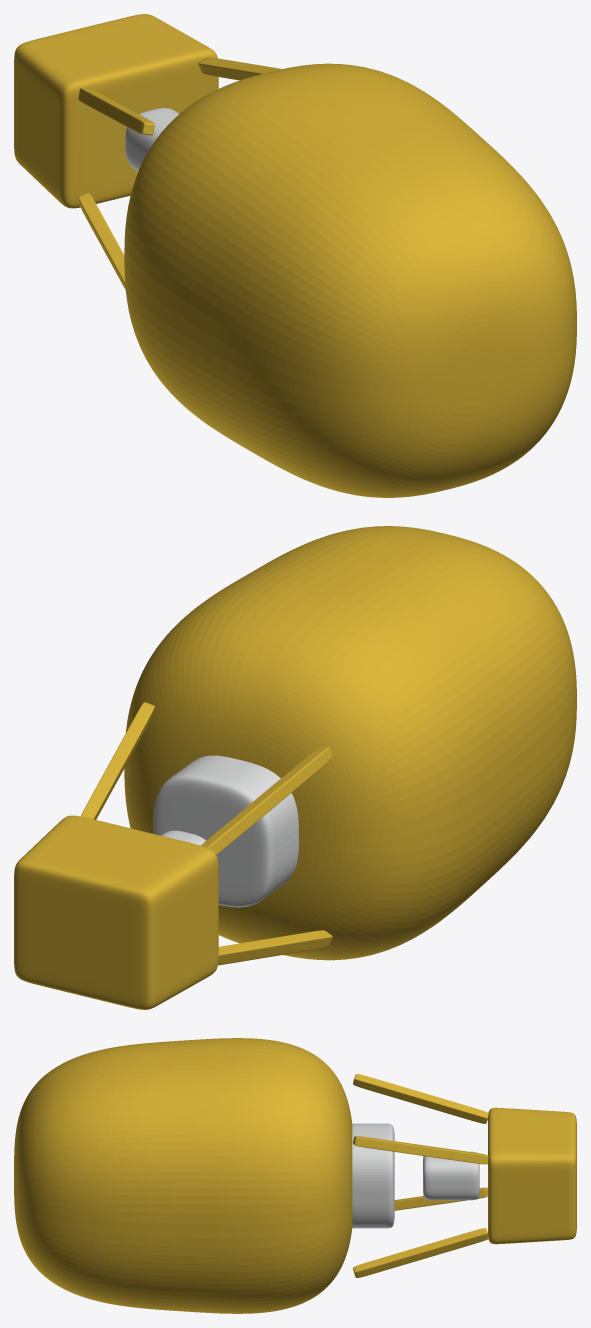
The model's file is hot_air_balloon_sq.glb.
3 views of the same model, one above another, from view 1: azimuth 30°, elevation 25°; view 2: azimuth 150°, elevation 25°; view 3: azimuth 270°, elevation 25° (orthographic). The views are drawn at different scales.
Parts seen in each view (by area): view 1: superquadric_0, superquadric_2, superquadric_4, superquadric_3, superquadric_6, superquadric_7; view 2: superquadric_0, superquadric_2, superquadric_1, superquadric_6, superquadric_4, superquadric_7; view 3: superquadric_0, superquadric_2, superquadric_1, superquadric_3, superquadric_6, superquadric_5, superquadric_7, superquadric_4.
Boxes of the visible parts, x1=… form: superquadric_0: x1=124, y1=63, x2=576, y2=497; superquadric_2: x1=14, y1=14, x2=218, y2=208; superquadric_4: x1=78, y1=193, x2=125, y2=289; superquadric_3: x1=125, y1=108, x2=178, y2=171; superquadric_6: x1=78, y1=88, x2=154, y2=135; superquadric_7: x1=198, y1=57, x2=281, y2=80; superquadric_0: x1=124, y1=526, x2=576, y2=960; superquadric_2: x1=14, y1=815, x2=218, y2=1009; superquadric_1: x1=153, y1=755, x2=298, y2=907; superquadric_6: x1=201, y1=746, x2=332, y2=854; superquadric_4: x1=218, y1=930, x2=332, y2=965; superquadric_7: x1=81, y1=702, x2=154, y2=819; superquadric_0: x1=14, y1=1038, x2=352, y2=1313; superquadric_2: x1=488, y1=1107, x2=576, y2=1244; superquadric_1: x1=352, y1=1123, x2=394, y2=1228; superquadric_3: x1=423, y1=1151, x2=479, y2=1200; superquadric_6: x1=353, y1=1074, x2=488, y2=1123; superquadric_5: x1=353, y1=1228, x2=488, y2=1277; superquadric_7: x1=353, y1=1136, x2=488, y2=1164; superquadric_4: x1=394, y1=1187, x2=487, y2=1210.
Size of the model in its own units: 0.4684 by 0.4684 by 1.
